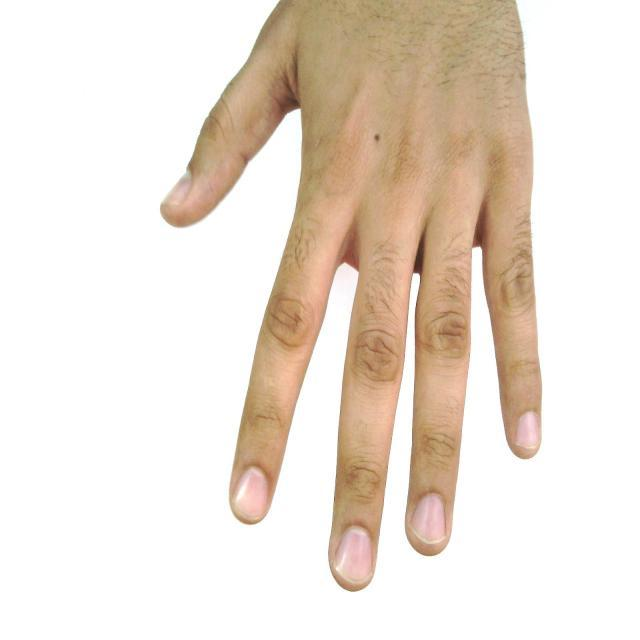Fingernail: (335, 528, 372, 582), (235, 468, 268, 520), (412, 495, 445, 542), (164, 172, 191, 204), (517, 413, 539, 449)
